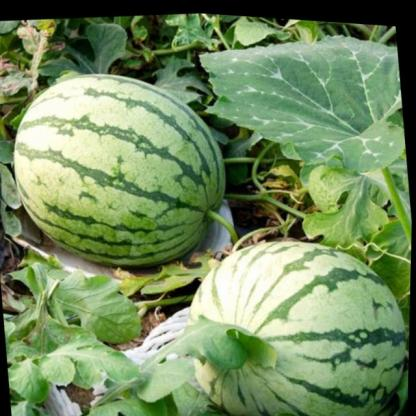watermelon: (2, 54, 238, 283), (176, 219, 412, 416)
